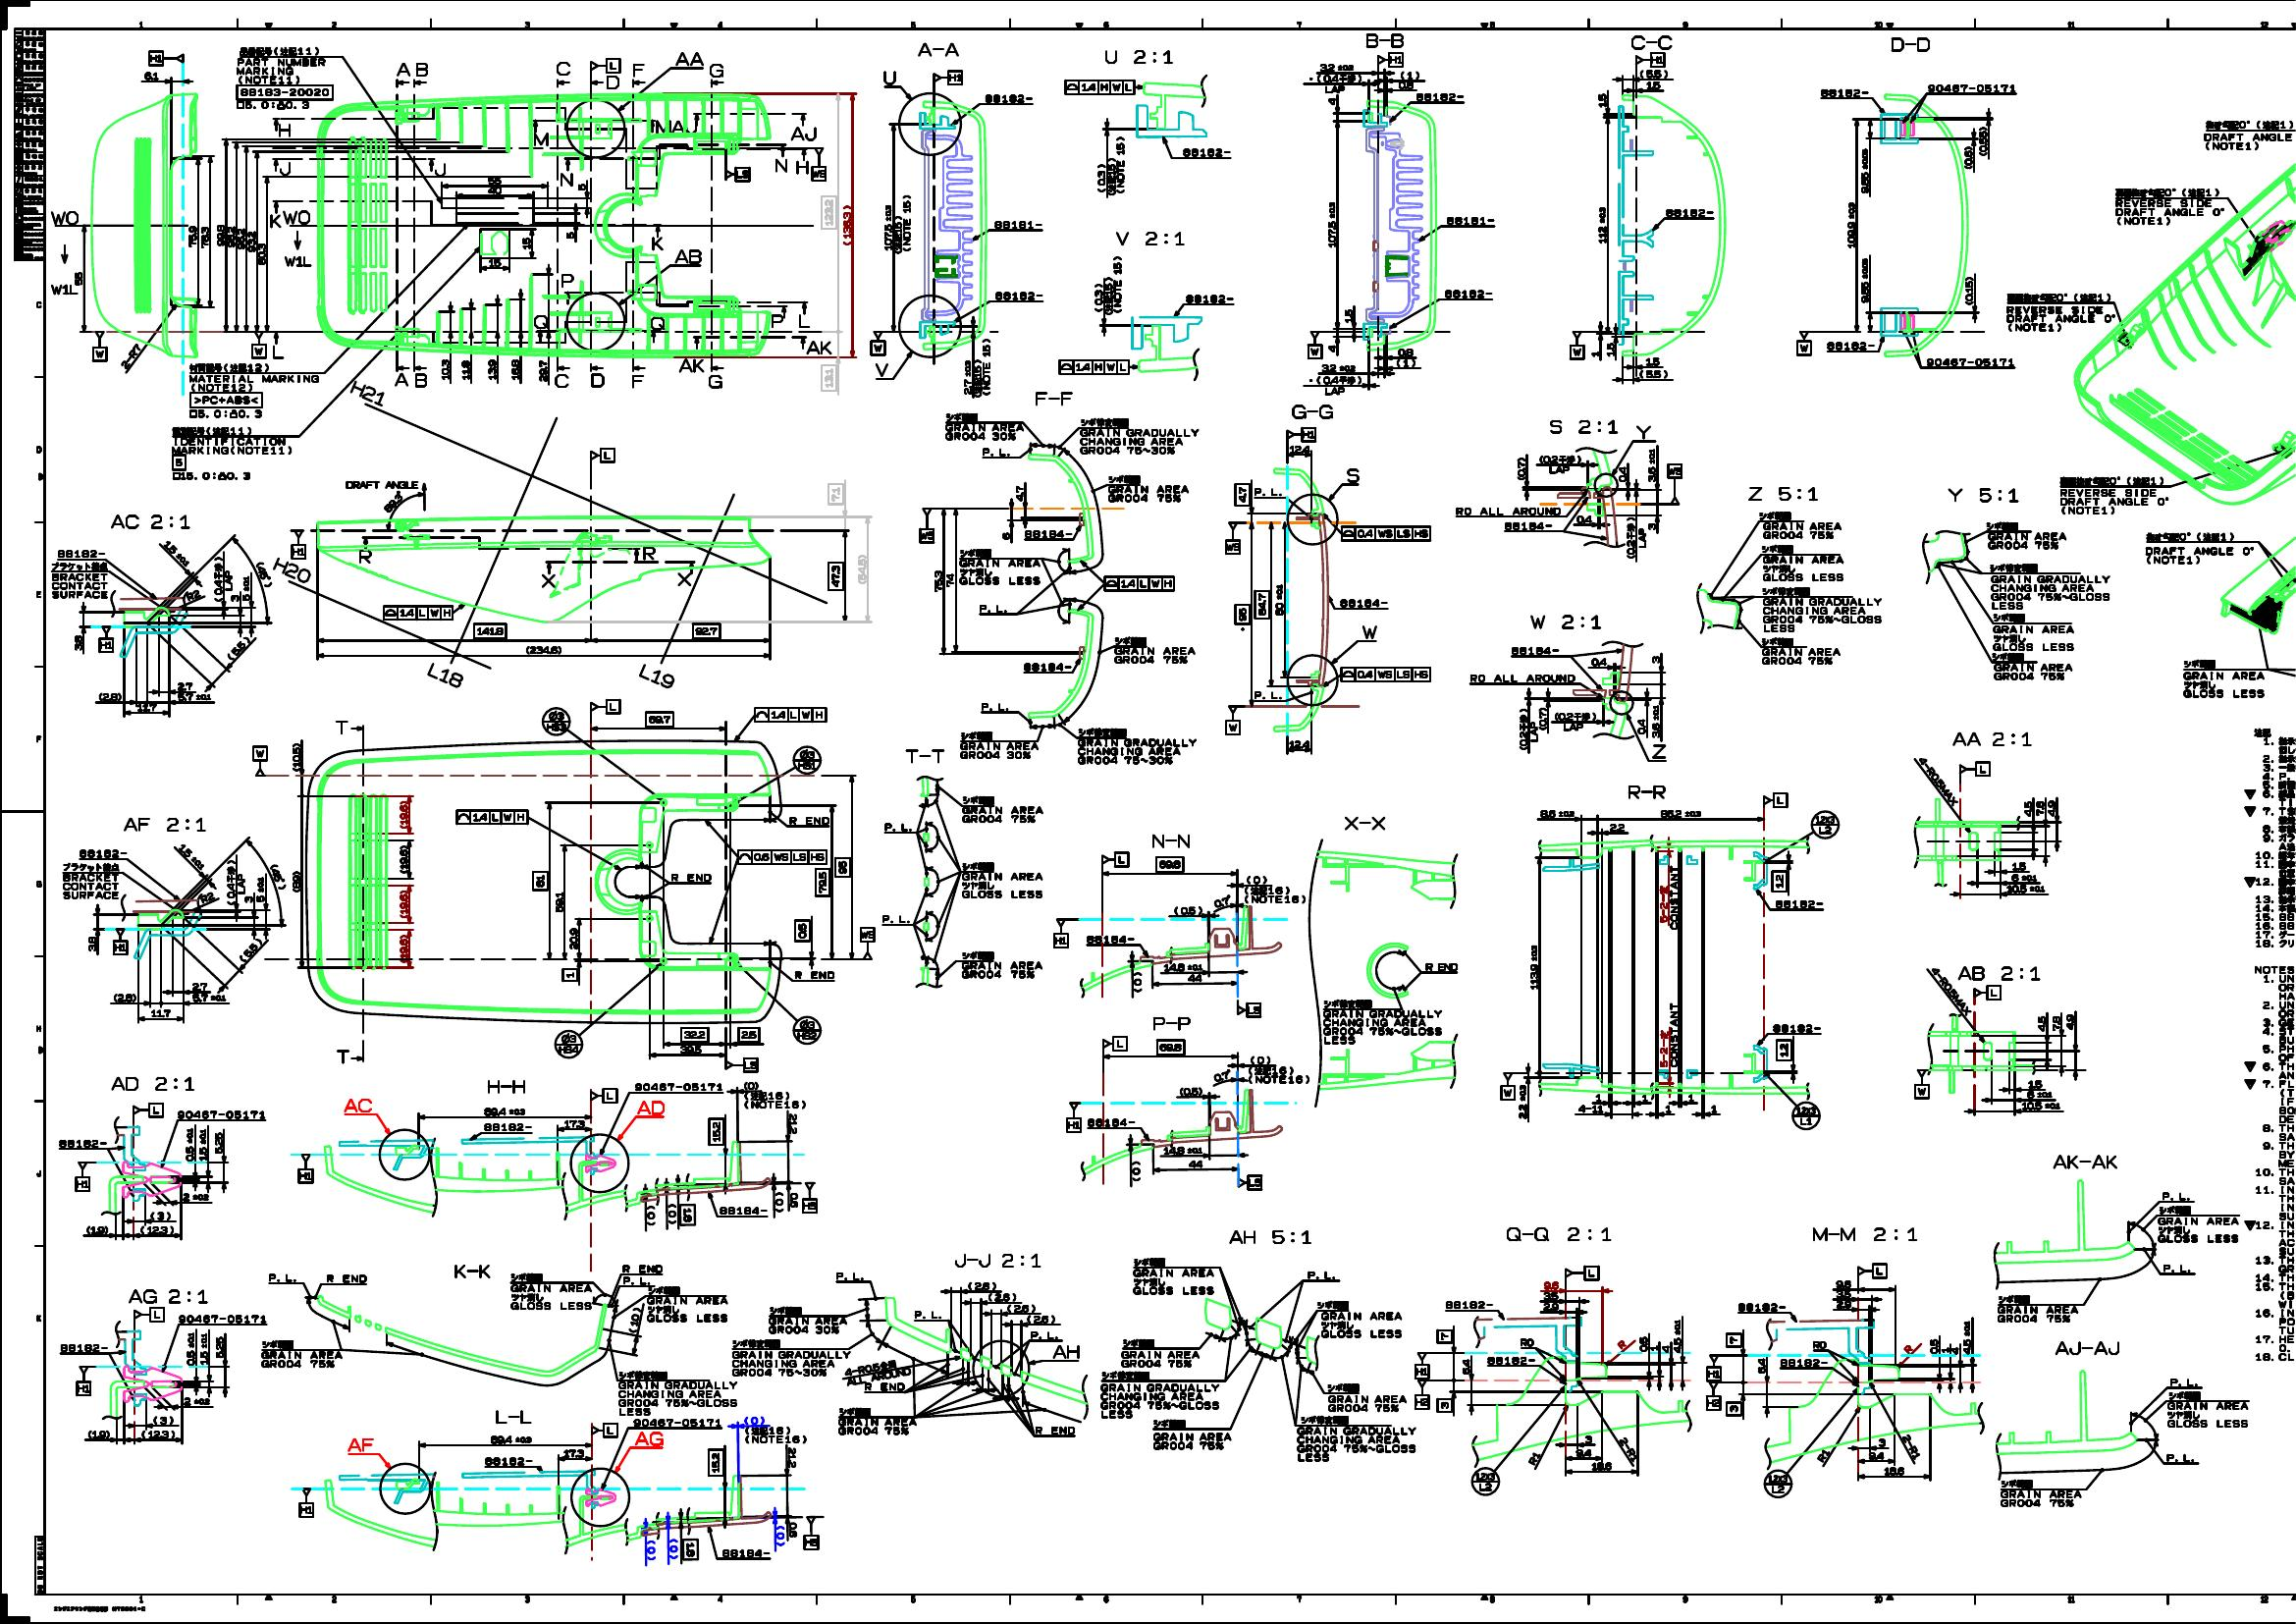anntotation_text: (188, 362, 321, 418), (170, 425, 293, 480), (235, 44, 332, 111), (1989, 562, 2112, 610), (617, 1369, 740, 1417), (1760, 585, 1883, 633), (1296, 1415, 1418, 1462), (1100, 1371, 1221, 1418), (1323, 998, 1442, 1044), (1075, 726, 1198, 765), (1079, 417, 1200, 455), (731, 1338, 850, 1376), (2115, 186, 2226, 227), (2059, 476, 2170, 517), (2006, 292, 2117, 330), (2143, 531, 2256, 564), (508, 1271, 592, 1311), (2182, 657, 2266, 698), (1316, 1301, 1404, 1339), (1992, 612, 2075, 652), (1760, 543, 1845, 582), (959, 548, 1042, 587), (2157, 1206, 2240, 1244), (1133, 1257, 1214, 1295), (2203, 120, 2296, 153), (646, 1287, 729, 1323), (2164, 1392, 2250, 1427), (963, 861, 1043, 898), (959, 793, 1043, 823), (260, 1339, 344, 1369), (49, 211, 79, 295), (1758, 510, 1843, 540), (1152, 1418, 1231, 1450), (1121, 1338, 1200, 1369), (1985, 520, 2068, 550), (1990, 650, 2073, 680), (766, 1304, 848, 1334), (1114, 634, 1196, 664), (1999, 1478, 2082, 1508), (838, 1406, 917, 1436), (1107, 475, 1189, 503), (961, 951, 1042, 979), (1326, 1383, 1407, 1411), (1760, 638, 1841, 666), (61, 861, 119, 900), (1997, 1295, 2080, 1322), (51, 561, 107, 599), (943, 413, 1024, 439), (959, 731, 1038, 758), (1811, 1225, 1918, 1243), (281, 209, 311, 269), (1505, 1227, 1613, 1243), (107, 511, 190, 531), (121, 816, 206, 833), (1228, 1227, 1312, 1244), (956, 1253, 1040, 1271), (111, 1076, 195, 1093), (1340, 666, 1430, 682), (738, 849, 826, 865), (845, 1360, 910, 1381), (1658, 865, 1679, 930), (1748, 485, 1818, 504), (1548, 417, 1618, 436), (1950, 731, 2032, 747), (1959, 965, 2041, 981), (1340, 526, 1432, 540), (1946, 487, 2018, 504), (1660, 1002, 1679, 1067), (128, 1288, 207, 1304), (1103, 47, 1173, 65), (1107, 135, 1126, 197), (1103, 255, 1123, 316), (2052, 1153, 2119, 1171), (1528, 613, 1602, 629), (1247, 1067, 1312, 1084), (1058, 359, 1130, 374), (754, 707, 826, 722), (631, 1417, 722, 1429), (1116, 230, 1186, 246), (383, 605, 453, 620), (457, 808, 527, 824), (745, 1427, 808, 1445), (1242, 886, 1305, 903), (743, 1091, 806, 1109), (1455, 506, 1560, 517), (1470, 673, 1576, 684), (1065, 79, 1133, 95), (1314, 374, 1361, 397), (1105, 575, 1173, 591), (177, 1313, 265, 1325), (894, 192, 912, 253), (973, 337, 991, 397), (2052, 1341, 2122, 1355), (791, 743, 822, 773), (791, 1014, 822, 1044), (632, 1081, 722, 1091), (176, 1109, 265, 1120), (1927, 83, 2015, 93), (1316, 74, 1363, 93), (227, 858, 246, 905), (1904, 775, 1969, 789), (1918, 984, 1983, 998), (343, 478, 416, 490), (553, 1028, 583, 1058), (1625, 517, 1646, 559), (1539, 453, 1581, 475), (1518, 707, 1539, 749), (1555, 712, 1595, 733), (213, 557, 232, 601), (1472, 1466, 1500, 1496), (1790, 1100, 1820, 1128), (1811, 810, 1839, 840), (1764, 1468, 1792, 1497), (53, 1605, 148, 1613), (541, 707, 569, 735), (1925, 357, 2015, 366), (903, 747, 947, 765), (269, 561, 313, 578), (634, 668, 678, 685), (1289, 404, 1333, 422), (33, 1534, 46, 1596), (1888, 35, 1931, 53), (423, 666, 466, 684), (348, 385, 390, 402), (1151, 1016, 1191, 1033), (915, 40, 959, 56), (1630, 35, 1674, 51), (453, 1262, 492, 1280), (1149, 833, 1191, 849), (917, 506, 935, 543), (717, 1204, 769, 1216), (1365, 32, 1405, 47), (492, 1410, 532, 1425), (1344, 816, 1384, 831), (487, 1077, 527, 1093), (1033, 390, 1073, 406), (77, 847, 128, 859), (1736, 1301, 1787, 1313), (1627, 784, 1665, 800), (993, 290, 1042, 302), (1184, 292, 1233, 304), (1667, 464, 1681, 504), (148, 49, 183, 65), (655, 120, 687, 137), (1442, 288, 1493, 299), (1484, 1355, 1535, 1366), (720, 1547, 771, 1557), (1022, 529, 1073, 540), (1509, 645, 1560, 656), (56, 1137, 107, 1148), (859, 926, 875, 960), (1565, 1265, 1599, 1281), (805, 1517, 820, 1550), (1065, 1102, 1082, 1132), (673, 248, 703, 265), (789, 127, 819, 144), (994, 220, 1043, 230), (984, 93, 1033, 104), (1182, 146, 1231, 156), (1446, 214, 1495, 225), (1820, 88, 1869, 98), (1825, 339, 1874, 350), (56, 548, 105, 559), (483, 1455, 532, 1466), (1022, 661, 1072, 671), (1773, 1023, 1822, 1033), (1780, 1357, 1829, 1367), (1339, 598, 1388, 608), (1414, 1378, 1430, 1410), (1959, 759, 1990, 775), (132, 1306, 163, 1322), (1224, 522, 1240, 554), (343, 1098, 374, 1114), (346, 1436, 374, 1454), (323, 1272, 369, 1283), (933, 69, 963, 84), (1052, 917, 1068, 947), (297, 1487, 313, 1517), (76, 1366, 91, 1396), (675, 53, 704, 69), (1224, 705, 1240, 735), (297, 1153, 313, 1183), (74, 1162, 90, 1192), (724, 1058, 757, 1072), (812, 148, 826, 181), (1084, 1118, 1137, 1127), (1237, 1174, 1263, 1192), (1762, 791, 1788, 808), (678, 357, 704, 374), (806, 337, 833, 355), (1086, 935, 1137, 944), (481, 1123, 532, 1132), (1307, 330, 1323, 359), (1569, 330, 1585, 359), (290, 531, 306, 559), (112, 928, 128, 956), (669, 872, 711, 882), (789, 816, 831, 826), (1101, 851, 1130, 866), (1052, 1343, 1080, 1359), (632, 1431, 664, 1445), (1706, 1381, 1722, 1410), (636, 1100, 664, 1116), (1414, 93, 1463, 102), (1665, 207, 1715, 216), (1774, 900, 1823, 909), (794, 970, 834, 981), (864, 1381, 905, 1392), (622, 1264, 662, 1274), (1635, 53, 1665, 67), (590, 700, 620, 714), (1915, 1069, 1929, 1098), (1857, 1264, 1887, 1278), (590, 58, 620, 72), (1286, 427, 1316, 441), (132, 1102, 162, 1116), (1446, 1301, 1493, 1309), (590, 1422, 617, 1438), (1101, 1035, 1128, 1051), (1975, 984, 2001, 1000), (1706, 1353, 1722, 1380), (60, 1343, 107, 1352), (1504, 522, 1551, 531), (1375, 51, 1404, 65), (803, 1183, 817, 1211), (882, 821, 913, 833), (590, 446, 615, 462), (93, 330, 105, 362), (726, 165, 750, 181), (98, 626, 112, 652), (1414, 1352, 1428, 1378), (1033, 1425, 1075, 1434), (1423, 961, 1458, 972), (1500, 1072, 1514, 1098), (251, 332, 265, 359), (267, 1271, 297, 1283), (870, 332, 885, 355), (1797, 330, 1811, 355), (253, 747, 265, 775), (913, 1308, 942, 1320), (588, 1090, 617, 1102), (880, 914, 912, 924), (1305, 1269, 1337, 1280), (1238, 1002, 1260, 1018), (2161, 1264, 2192, 1274), (2168, 1376, 2199, 1387), (980, 446, 1010, 457), (978, 603, 1008, 613), (2161, 1190, 2191, 1200), (2164, 1452, 2194, 1462), (531, 315, 548, 332), (648, 315, 666, 332), (706, 371, 724, 388), (1254, 689, 1282, 700), (1254, 487, 1282, 497), (882, 69, 898, 86), (873, 360, 889, 378), (676, 571, 694, 587), (641, 547, 659, 562), (265, 211, 281, 228), (269, 344, 286, 360), (631, 371, 646, 388), (769, 313, 785, 330), (559, 170, 574, 188), (434, 160, 450, 178), (534, 132, 550, 149), (555, 60, 573, 76), (604, 74, 620, 91), (773, 155, 789, 172), (794, 160, 812, 176), (1029, 1330, 1059, 1339), (622, 1276, 652, 1285), (980, 701, 1010, 710), (541, 573, 557, 589), (357, 548, 372, 564), (395, 62, 411, 77), (415, 62, 430, 77), (278, 123, 293, 139), (279, 162, 295, 178), (395, 373, 411, 388), (413, 373, 429, 388), (553, 373, 569, 388), (560, 272, 576, 288), (590, 373, 606, 388), (796, 313, 812, 329), (650, 236, 666, 251), (631, 62, 646, 77), (708, 62, 724, 77), (1635, 424, 1651, 439), (1651, 743, 1667, 759), (1361, 624, 1377, 640), (336, 1048, 350, 1065), (334, 717, 348, 735), (836, 1271, 864, 1280), (1346, 468, 1360, 483)
dimension_text: (820, 195, 838, 228), (1326, 200, 1337, 248), (1846, 200, 1857, 248), (1859, 146, 1869, 193), (474, 624, 506, 640), (882, 204, 892, 251), (523, 643, 562, 656), (488, 1434, 532, 1445), (483, 1106, 527, 1116), (645, 710, 673, 726), (680, 1028, 708, 1044), (815, 868, 831, 896), (1254, 591, 1270, 619), (692, 622, 720, 638), (841, 204, 852, 246), (2020, 1100, 2061, 1111), (1163, 961, 1203, 972), (827, 562, 843, 589), (708, 1450, 724, 1476), (1158, 1040, 1184, 1056), (1156, 856, 1182, 872), (708, 1118, 724, 1144), (820, 364, 836, 390), (183, 1128, 195, 1162), (1597, 206, 1607, 244), (1860, 257, 1869, 302), (1530, 944, 1539, 990), (234, 944, 265, 956), (174, 852, 209, 863), (1319, 62, 1354, 72), (141, 1429, 176, 1439), (827, 483, 845, 504), (1321, 362, 1356, 373), (1235, 483, 1251, 506), (1660, 808, 1700, 817), (1163, 1146, 1203, 1155), (1274, 582, 1284, 615), (2006, 884, 2045, 893), (834, 856, 852, 875), (1771, 872, 1788, 891), (738, 1026, 759, 1042), (682, 1540, 697, 1561), (678, 1204, 694, 1225), (114, 352, 146, 362), (1093, 281, 1103, 313), (1539, 808, 1576, 817), (963, 359, 971, 395), (794, 919, 808, 942), (1897, 1441, 1927, 1452), (397, 844, 408, 874), (1639, 369, 1669, 380), (1648, 448, 1657, 483), (139, 1225, 174, 1234), (1518, 1084, 1527, 1120), (191, 993, 227, 1002), (176, 692, 211, 701), (1235, 605, 1251, 624), (1776, 1040, 1792, 1060), (272, 863, 283, 891), (1978, 127, 1989, 155), (183, 1396, 211, 1406), (1672, 1318, 1681, 1352), (1962, 1320, 1971, 1353), (1651, 705, 1660, 738), (186, 1332, 195, 1366), (199, 1332, 207, 1366), (199, 1127, 207, 1160), (532, 872, 548, 889), (1516, 455, 1527, 482), (1576, 1104, 1602, 1114), (162, 548, 193, 557), (1096, 162, 1105, 193), (966, 1281, 996, 1290), (1007, 1304, 1036, 1313), (1026, 1313, 1056, 1322), (399, 933, 408, 963), (292, 742, 300, 772), (1639, 69, 1669, 77), (1964, 276, 1973, 306), (1173, 905, 1203, 914), (857, 554, 866, 584), (223, 643, 253, 652), (629, 1308, 639, 1332), (379, 496, 404, 506), (199, 225, 209, 250), (225, 223, 235, 248), (235, 225, 246, 250), (460, 359, 471, 383), (1725, 1401, 1741, 1417), (987, 1294, 1015, 1302), (1614, 1445, 1643, 1454), (1725, 1332, 1743, 1346), (2025, 1090, 2054, 1098), (399, 889, 408, 917), (399, 800, 408, 828), (1590, 1461, 1613, 1471), (1249, 1055, 1272, 1065), (666, 1202, 676, 1225), (214, 223, 225, 246), (246, 230, 256, 253), (487, 359, 497, 381), (1460, 1357, 1472, 1376), (183, 1192, 209, 1200), (2010, 874, 2036, 882), (260, 561, 269, 587), (1437, 1329, 1453, 1343), (1437, 1399, 1453, 1413), (1883, 1466, 1904, 1476), (1288, 738, 1309, 749), (153, 1415, 174, 1425), (775, 1526, 785, 1547), (149, 1007, 170, 1018), (678, 1044, 703, 1053), (1539, 707, 1548, 731), (933, 568, 942, 592), (1964, 146, 1973, 170), (86, 1429, 111, 1438), (1179, 1086, 1203, 1095), (241, 576, 249, 601), (256, 241, 265, 265), (564, 1448, 583, 1459), (1212, 1070, 1231, 1081), (112, 993, 135, 1002), (555, 891, 564, 914), (569, 926, 578, 949), (214, 1336, 223, 1359), (86, 1225, 109, 1234), (213, 1132, 221, 1155), (669, 1538, 678, 1561), (787, 1446, 796, 1469), (789, 1113, 798, 1135), (98, 691, 121, 700), (188, 225, 197, 248), (441, 359, 450, 381), (511, 359, 520, 381), (538, 359, 546, 381), (562, 968, 578, 981), (1518, 1336, 1535, 1346), (1525, 1454, 1542, 1464), (2036, 1014, 2047, 1032), (256, 877, 264, 903), (149, 1211, 170, 1220), (646, 1540, 655, 1561), (743, 1415, 764, 1424), (1131, 1160, 1140, 1181), (1133, 972, 1142, 993), (1212, 896, 1230, 907), (1245, 875, 1267, 884), (741, 1079, 759, 1090), (789, 1192, 799, 1209), (775, 1192, 783, 1213), (646, 1204, 655, 1225), (564, 1120, 585, 1128), (292, 868, 299, 893), (1289, 445, 1309, 453), (1397, 359, 1416, 367), (1400, 70, 1419, 79), (137, 703, 156, 712), (1542, 1290, 1558, 1301), (1542, 1280, 1558, 1290), (1637, 1336, 1648, 1352), (1929, 1338, 1939, 1353), (1635, 717, 1646, 733), (1592, 656, 1607, 666), (1014, 485, 1024, 501), (2011, 861, 2027, 872), (72, 271, 83, 286), (1574, 1448, 1592, 1457), (1757, 1357, 1765, 1374), (1867, 1452, 1885, 1461), (1576, 515, 1593, 524), (1397, 348, 1414, 357), (2024, 800, 2032, 817), (2047, 800, 2055, 817), (184, 591, 202, 599), (1813, 1339, 1827, 1350), (945, 573, 956, 587), (1597, 93, 1607, 107), (191, 981, 206, 991), (144, 70, 158, 81), (1836, 1280, 1852, 1288), (1815, 1452, 1830, 1461), (2027, 1079, 2043, 1088), (2052, 1016, 2061, 1032), (2066, 1014, 2075, 1030), (199, 893, 214, 902), (1618, 466, 1627, 482), (1344, 308, 1353, 323), (1398, 81, 1414, 90), (1606, 341, 1614, 357), (1644, 357, 1660, 366), (789, 1522, 798, 1538), (2034, 800, 2043, 816), (1609, 823, 1625, 831), (74, 634, 83, 650), (487, 186, 502, 195), (1542, 1302, 1560, 1309), (1836, 1301, 1850, 1309), (1646, 81, 1660, 90), (1188, 974, 1202, 982), (488, 258, 502, 267), (1836, 1290, 1852, 1297), (88, 935, 95, 951), (1188, 1160, 1203, 1167), (177, 682, 193, 689), (522, 237, 531, 250), (1616, 1341, 1627, 1350), (1583, 1434, 1593, 1443), (1903, 1345, 1913, 1353), (244, 895, 253, 905), (1650, 656, 1660, 664), (1000, 531, 1008, 541), (1590, 350, 1600, 359), (1664, 1104, 1672, 1114), (1709, 1104, 1718, 1114), (564, 230, 574, 239), (487, 178, 502, 183), (1650, 1343, 1658, 1352), (1662, 1345, 1671, 1353), (1876, 1438, 1885, 1446), (1326, 97, 1335, 105), (1593, 1093, 1602, 1102), (1686, 1093, 1695, 1102), (578, 181, 587, 190), (1326, 344, 1337, 352), (1941, 1345, 1948, 1353), (1950, 1346, 1959, 1353), (1648, 522, 1657, 529), (1641, 1093, 1648, 1102), (230, 594, 239, 601)
object: (302, 736, 783, 1026), (313, 90, 773, 360), (2071, 162, 2296, 506), (1535, 838, 1808, 1095), (316, 513, 773, 622), (323, 1134, 773, 1218), (321, 1469, 773, 1552), (1316, 849, 1456, 1091), (1764, 1318, 1983, 1464), (1474, 1316, 1688, 1459), (1616, 91, 1730, 359), (88, 90, 199, 359), (306, 1294, 617, 1387), (863, 1295, 1087, 1424), (1880, 91, 1969, 359), (1026, 439, 1105, 729), (1133, 79, 1209, 373), (1363, 98, 1439, 350), (1080, 902, 1281, 993), (1082, 1084, 1282, 1176), (917, 98, 989, 350), (1994, 1178, 2157, 1283), (1997, 1369, 2157, 1475), (1272, 466, 1332, 735), (1915, 798, 2018, 886), (1203, 1297, 1318, 1374), (1925, 1014, 2034, 1093), (107, 1329, 181, 1418), (90, 596, 190, 661), (107, 1125, 181, 1213), (915, 775, 945, 990), (1555, 448, 1618, 547), (1570, 643, 1634, 738), (132, 898, 202, 961), (1924, 529, 1969, 576), (1697, 587, 1741, 631)
title_block: (12, 28, 44, 262)
